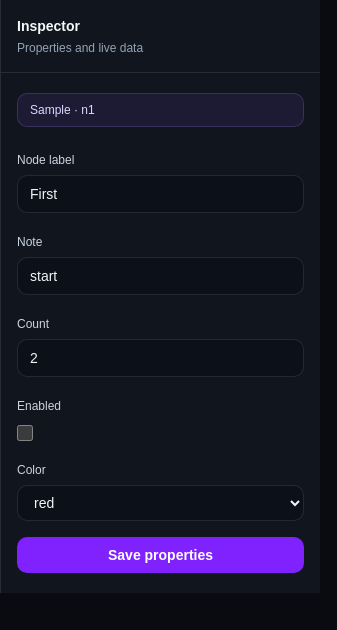
Scenario: descriptor-driven inspector › reports invalid numeric text without changing the document
The width and height of the screenshot is (337, 630).
Clear the number field labelled "Count": x=160, y=358 [17, 339, 304, 377]
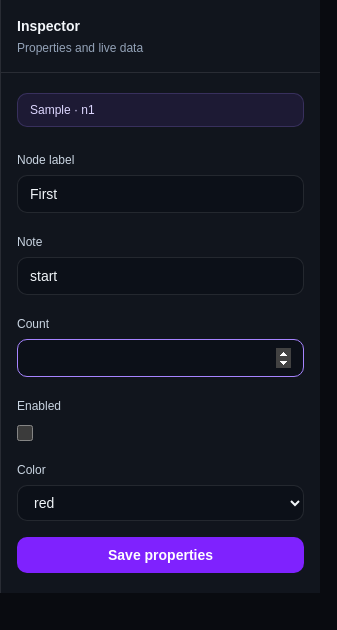
Click the button "Save properties": x=160, y=555 [17, 537, 304, 573]
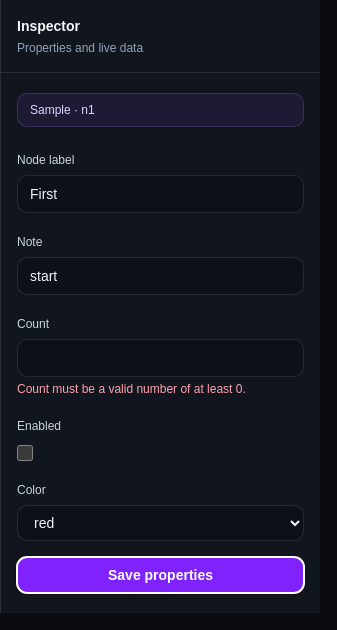
Expected: the message reads "Count must be a valid number of at least 0.", [17, 382, 246, 396]
